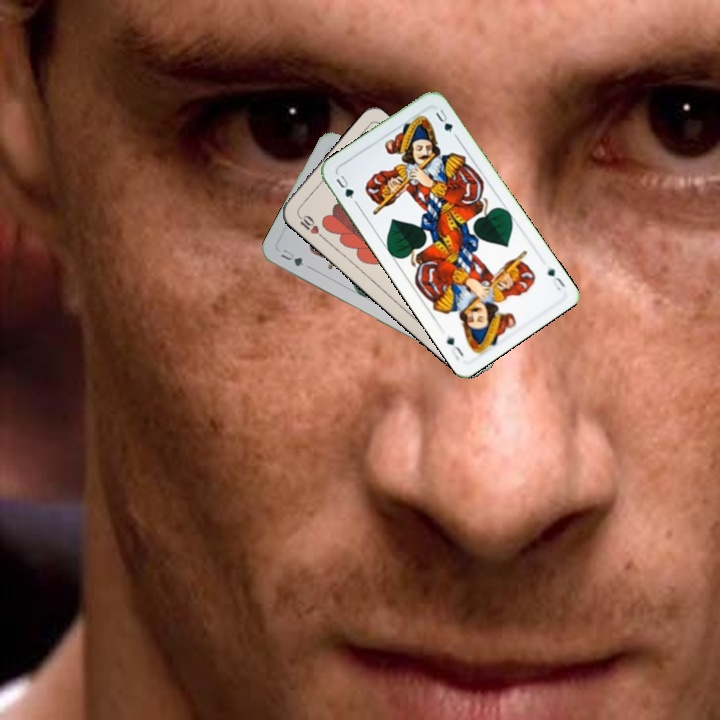GU: (276, 245, 312, 271), (543, 264, 568, 293), (332, 171, 356, 201)
H10: (293, 210, 327, 241)
